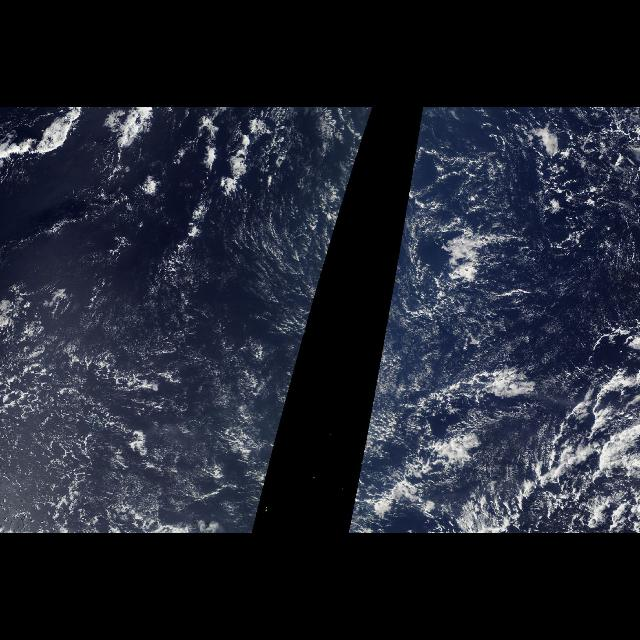Gravel: (0, 243, 290, 532), (378, 109, 640, 373)
Sugar: (1, 202, 342, 364), (378, 202, 594, 364)
